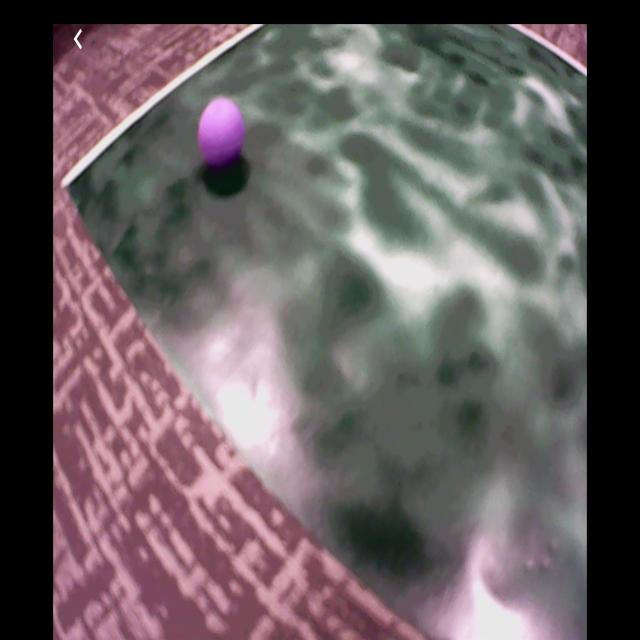ball: (199, 97, 242, 168)
